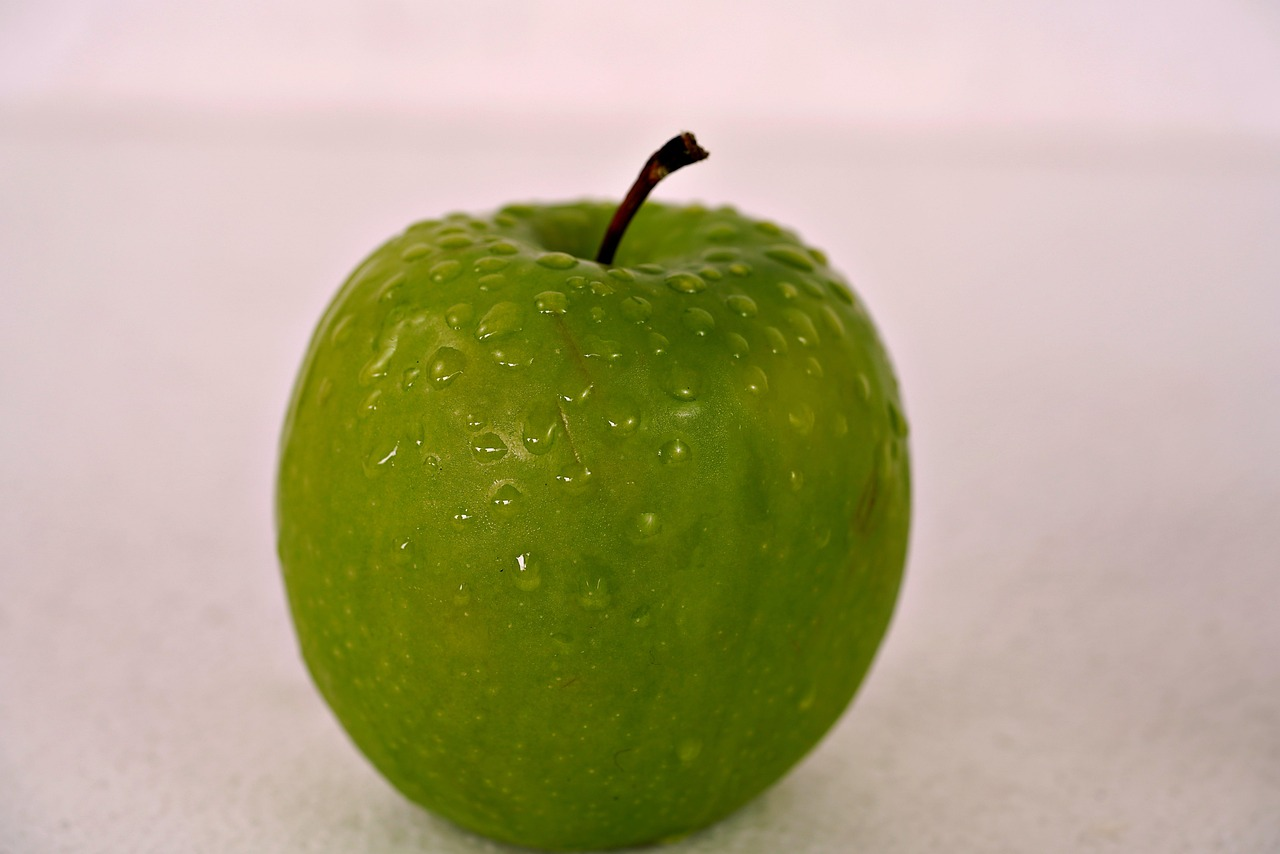apel: (248, 172, 934, 853)
